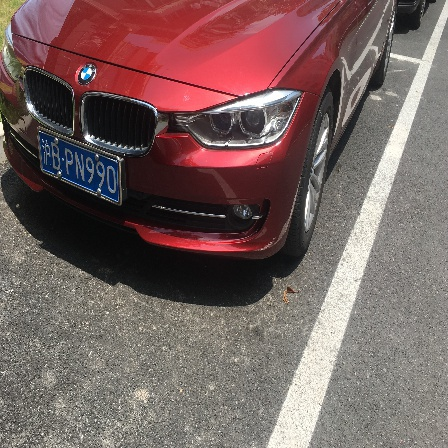plate: (36, 128, 123, 205)
